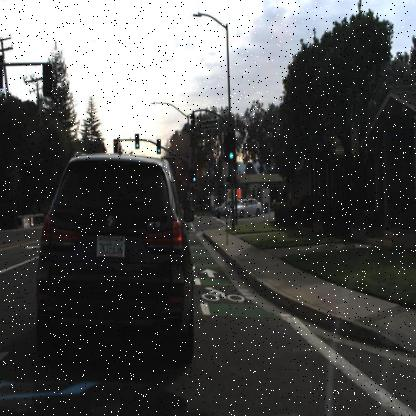car: (38, 145, 198, 364), (228, 197, 262, 221)
trafficLight: (110, 134, 120, 157)
trafficLight-Green: (223, 131, 237, 169), (134, 132, 140, 146), (156, 138, 161, 153), (192, 170, 196, 184)
